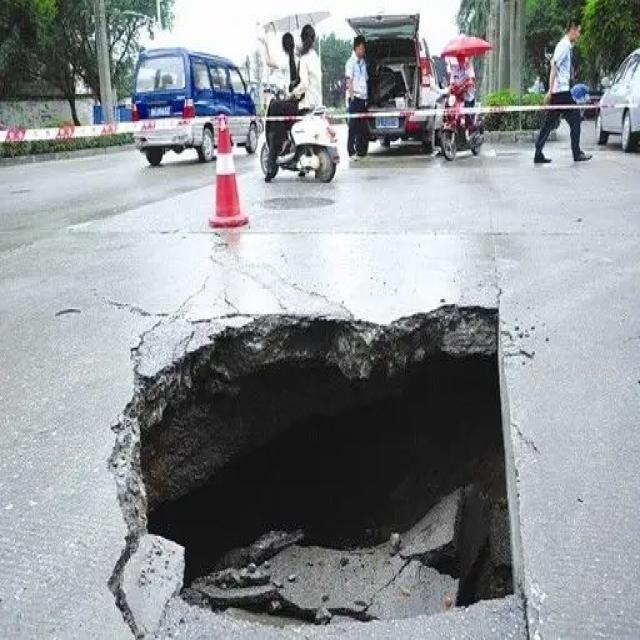Pothole: (106, 294, 525, 621)
